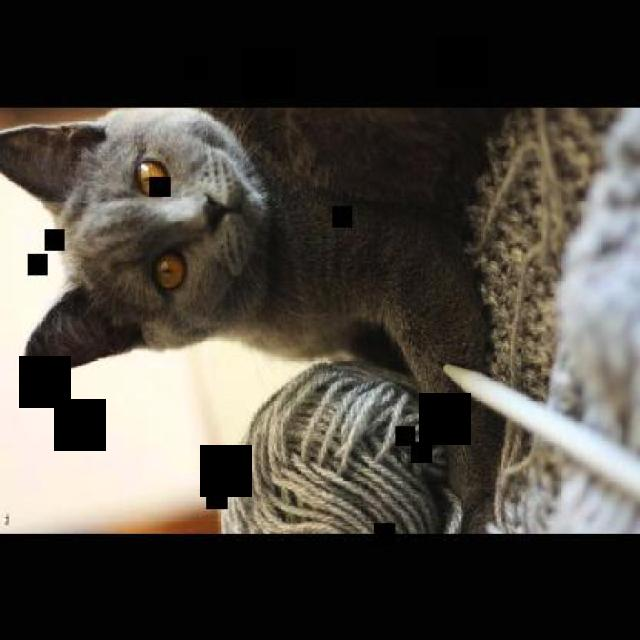unauthorized: (0, 104, 638, 532)
